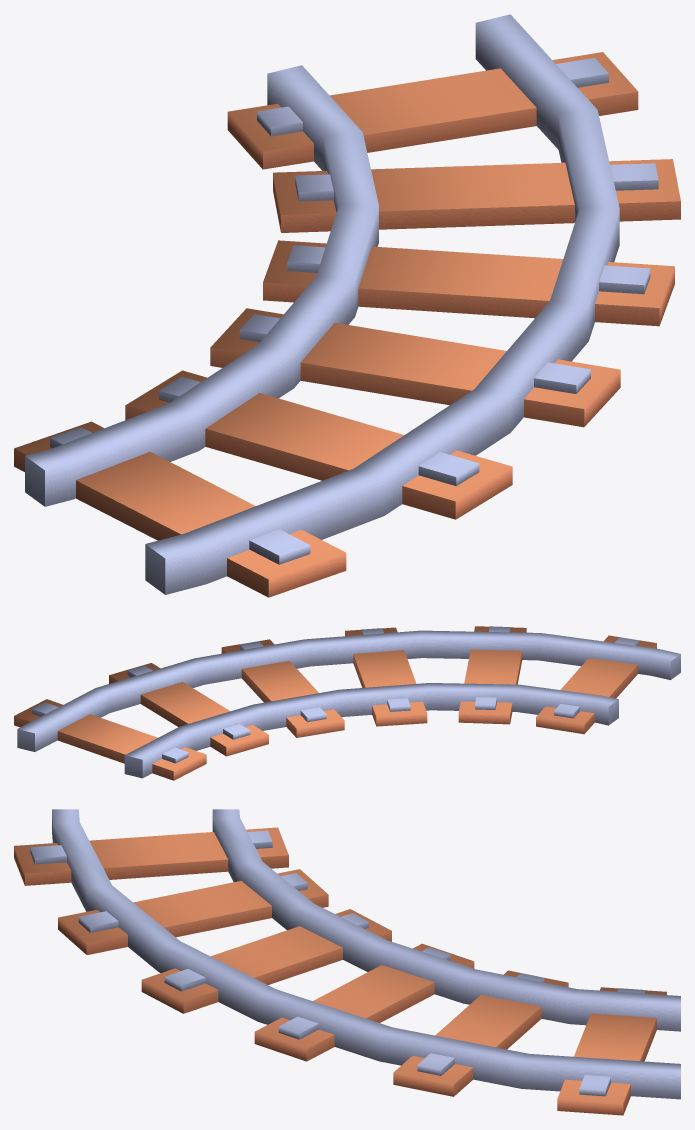
Rendered from railroad-corner-small.glb.
The picture shows the model from 3 angles, top to bottom: view 1: azimuth 30°, elevation 25°; view 2: azimuth 150°, elevation 25°; view 3: azimuth 270°, elevation 25°; orthographic projection. The views are drawn at different scales.
Visible parts, largest first — view 1: railroad-corner-small; view 2: railroad-corner-small; view 3: railroad-corner-small.
Boxes of the visible parts, x1,y1,x2,y2 form: railroad-corner-small: [14, 14, 680, 597]; railroad-corner-small: [14, 626, 680, 780]; railroad-corner-small: [14, 809, 680, 1115].
Bounding box in the file's own units: 2.49 × 0.1001 × 2.49.
Materials: 1 (1 with a texture image).
